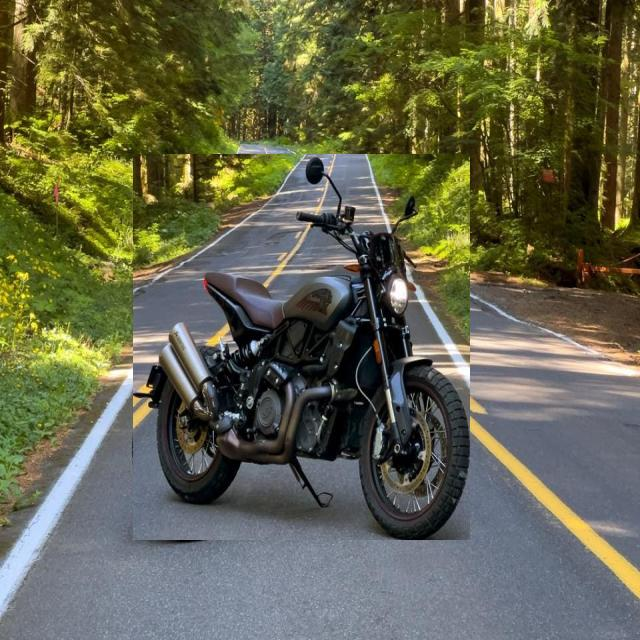motorcycle: (133, 155, 469, 540)
